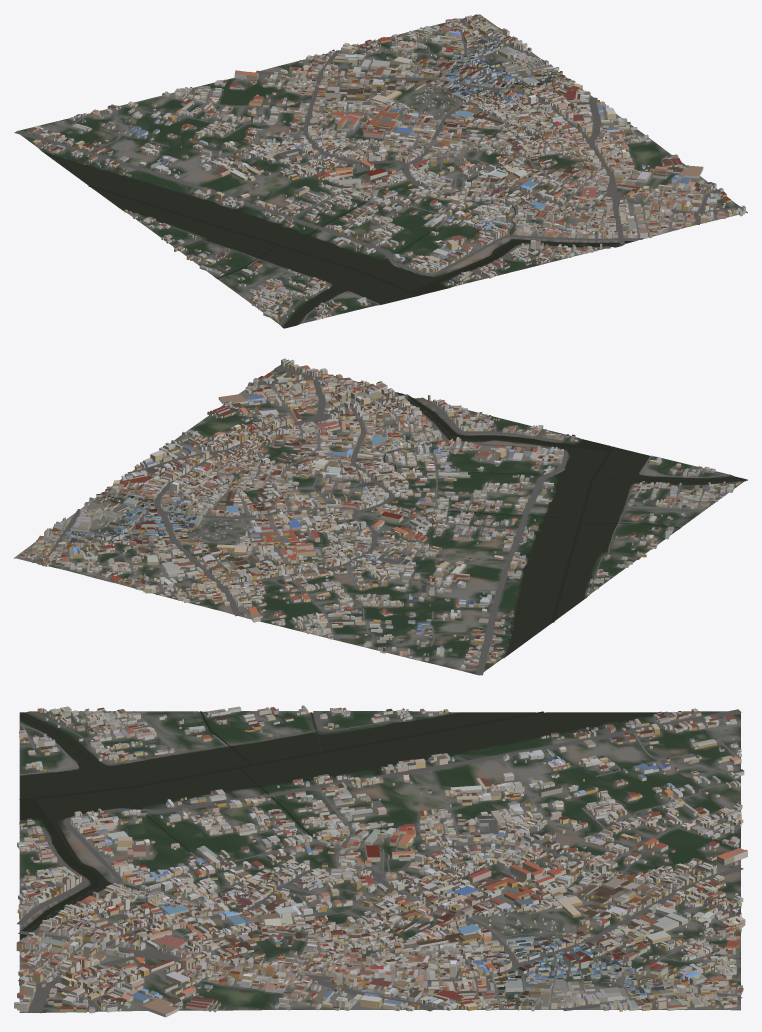
3 renders of one model, top to bottom at view 1: azimuth 30°, elevation 25°; view 2: azimuth 150°, elevation 25°; view 3: azimuth 270°, elevation 25°, orthographic. The views are drawn at different scales.
Visible parts, largest first — view 1: buildings, ground, water, roads; view 2: buildings, ground, water, roads; view 3: buildings, ground, water, roads.
Part boxes in pixels (x1=…): buildings: x1=28, y1=14, x2=745, y2=322; ground: x1=16, y1=14, x2=747, y2=328; water: x1=42, y1=151, x2=633, y2=327; roads: x1=14, y1=17, x2=741, y2=324; buildings: x1=20, y1=358, x2=740, y2=670; ground: x1=14, y1=365, x2=747, y2=675; water: x1=383, y1=392, x2=746, y2=656; roads: x1=20, y1=365, x2=743, y2=675; buildings: x1=14, y1=705, x2=747, y2=1017; ground: x1=19, y1=711, x2=740, y2=1012; water: x1=18, y1=711, x2=670, y2=939; roads: x1=17, y1=709, x2=743, y2=1013.
Size of the model in its own units: 1441 by 44.6 by 1425.
